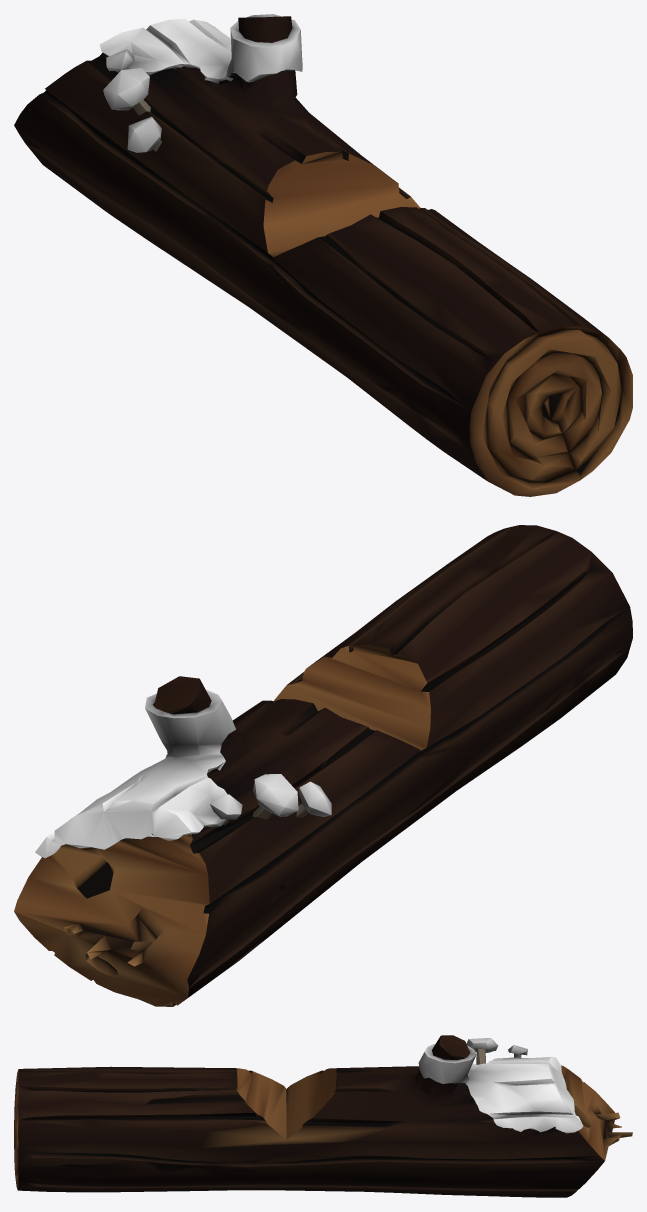
Rendered from log_a.glb.
3 views of the same model, one above another, from view 1: azimuth 30°, elevation 25°; view 2: azimuth 150°, elevation 25°; view 3: azimuth 270°, elevation 25° (orthographic). The views are drawn at different scales.
Parts seen in each view (by area): view 1: log_a_LOD0; view 2: log_a_LOD0; view 3: log_a_LOD0.
Part boxes in pixels (x1,y1,x2,y2): log_a_LOD0: (14, 14, 632, 496); log_a_LOD0: (14, 525, 632, 1006); log_a_LOD0: (14, 1035, 632, 1197).
Size of what is drawn, in the model's own units: 0.6111 by 0.7181 by 2.48.
